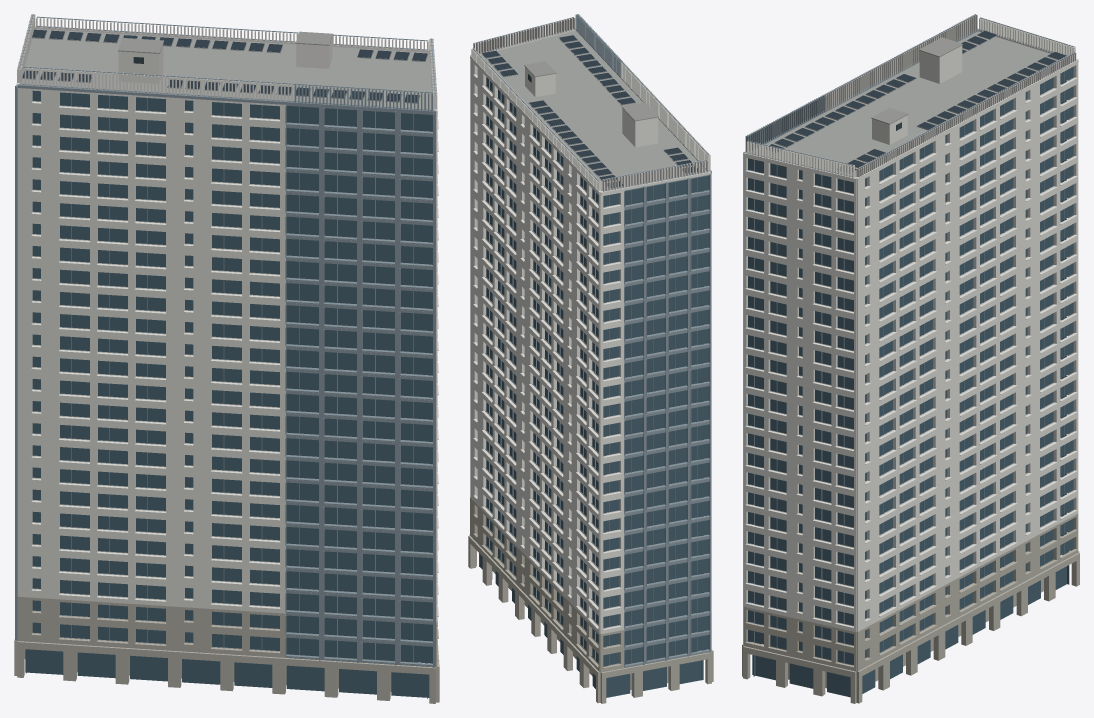
Rendered from bespoke-maple-xi-114.glb.
3 views of the same model, side by side, from view 1: azimuth 30°, elevation 25°; view 2: azimuth 150°, elevation 25°; view 3: azimuth 270°, elevation 25° (orthographic). The views are drawn at different scales.
Parts seen in each view (by area): view 1: Maple114_e0_dark_glass, Maple114_numbered_plan_inset_body, Maple114_e0_dark_piers, Maple114_numbered_plan_roof, Maple114_recessed_stone_lobby, Maple114_e0_dark_spandrel_joint, Maple114_PV_cells, Maple114_PV_frame; view 2: Maple114_numbered_plan_inset_body, Maple114_e0_dark_glass, Maple114_e0_dark_piers, Maple114_numbered_plan_roof, Maple114_recessed_stone_lobby, Maple114_PV_cells, Maple114_e0_dark_spandrel_joint, Maple114_PV_frame; view 3: Maple114_numbered_plan_inset_body, Maple114_e0_dark_glass, Maple114_recessed_stone_lobby, Maple114_numbered_plan_roof, Maple114_e0_dark_piers, Maple114_PV_cells, Maple114_e0_dark_spandrel_joint, Maple114_PV_frame.
Boxes of the visible parts, x1,y1,x2,y2 form: Maple114_e0_dark_glass: [25, 90, 432, 698]; Maple114_numbered_plan_inset_body: [16, 14, 438, 651]; Maple114_e0_dark_piers: [15, 14, 436, 667]; Maple114_numbered_plan_roof: [20, 29, 433, 109]; Maple114_recessed_stone_lobby: [14, 574, 439, 703]; Maple114_e0_dark_spandrel_joint: [118, 31, 432, 666]; Maple114_PV_cells: [22, 29, 427, 102]; Maple114_PV_frame: [22, 31, 428, 103]; Maple114_numbered_plan_inset_body: [470, 17, 711, 665]; Maple114_e0_dark_glass: [479, 77, 708, 697]; Maple114_e0_dark_piers: [472, 14, 711, 667]; Maple114_numbered_plan_roof: [481, 30, 706, 191]; Maple114_recessed_stone_lobby: [468, 497, 713, 703]; Maple114_PV_cells: [482, 35, 697, 187]; Maple114_e0_dark_spandrel_joint: [524, 61, 709, 667]; Maple114_PV_frame: [481, 37, 700, 188]; Maple114_numbered_plan_inset_body: [744, 14, 1078, 658]; Maple114_e0_dark_glass: [747, 66, 1073, 697]; Maple114_recessed_stone_lobby: [742, 511, 1079, 703]; Maple114_numbered_plan_roof: [752, 31, 1057, 177]; Maple114_e0_dark_piers: [743, 14, 1074, 663]; Maple114_PV_cells: [766, 30, 1066, 172]; Maple114_e0_dark_spandrel_joint: [871, 37, 962, 124]; Maple114_PV_frame: [766, 35, 1058, 173].
Size of the model in its own units: 49.42 by 83.57 by 46.47.
